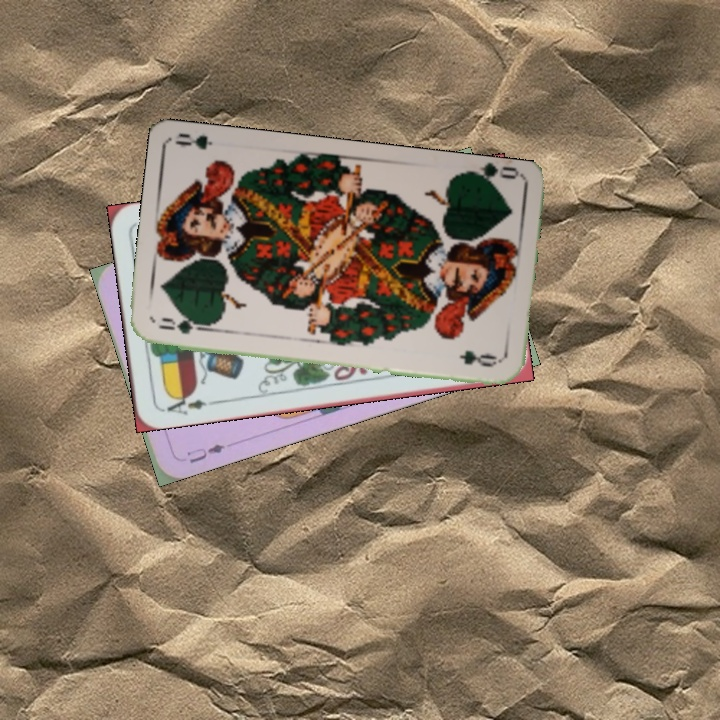EA: (159, 389, 218, 418)
EU: (182, 439, 227, 466)
GO: (461, 162, 521, 191), (155, 313, 212, 337)
